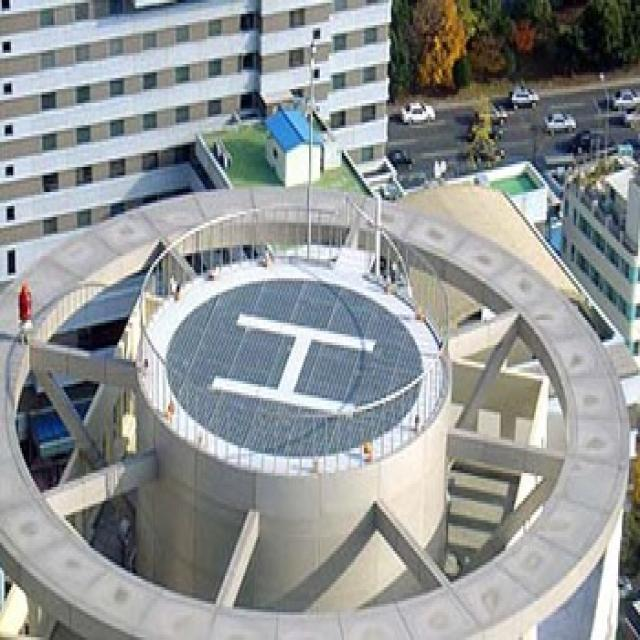helipad: (130, 250, 446, 482)
